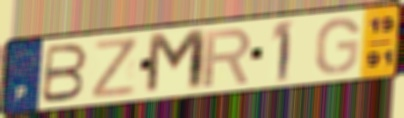1: (270, 20, 296, 84)
B: (38, 42, 90, 105)
G: (312, 16, 362, 76)
M: (143, 27, 209, 97)
R: (201, 26, 255, 90)
Z: (90, 35, 139, 101)
